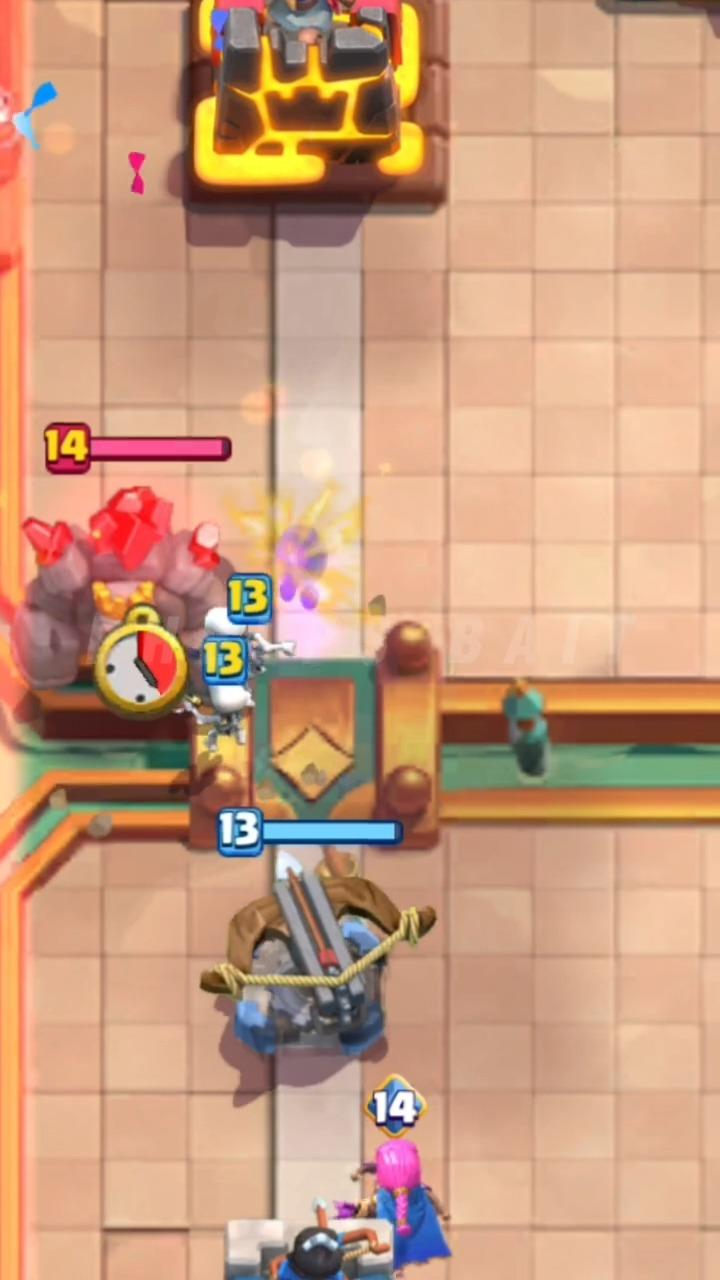archer: (336, 1139, 451, 1279)
golem: (11, 484, 234, 689)
skeletons: (176, 608, 293, 754)
x-bow: (200, 847, 435, 1056), (218, 810, 261, 853)
